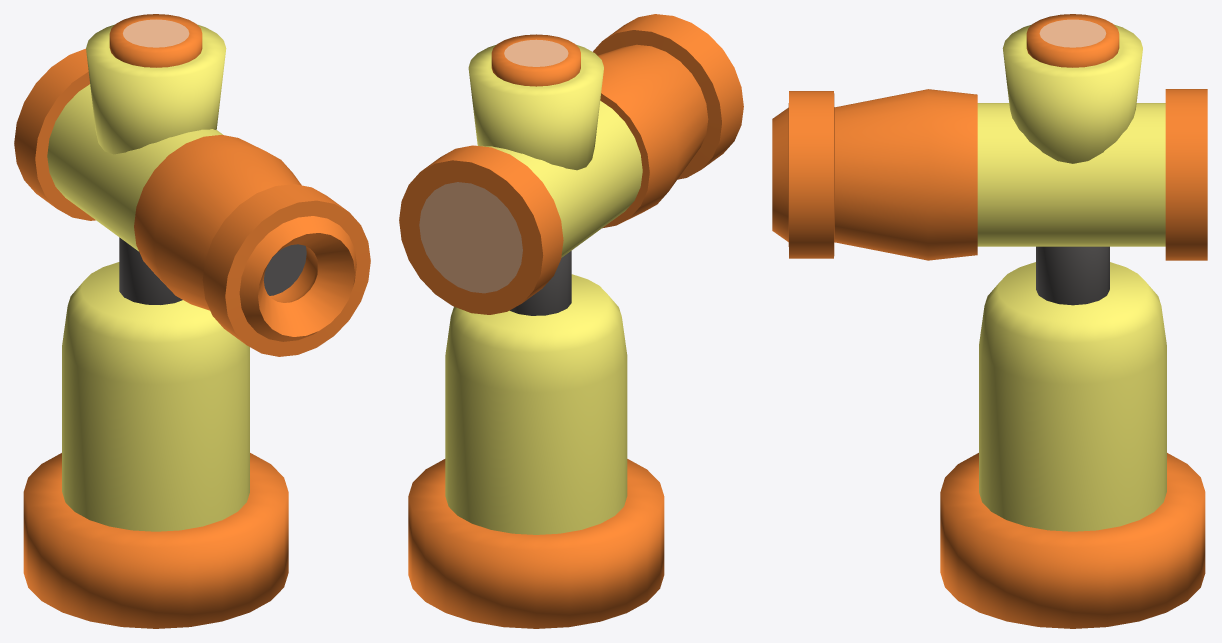
The model's file is Obstacle 28 V3.fbx.
The picture shows the model from 3 angles, left to right: view 1: azimuth 30°, elevation 25°; view 2: azimuth 150°, elevation 25°; view 3: azimuth 270°, elevation 25°; orthographic projection. The views are drawn at different scales.
Parts seen in each view (by area): view 1: 028 Part 2, 028 Part 1; view 2: 028 Part 2, 028 Part 1; view 3: 028 Part 2, 028 Part 1.
Part boxes in pixels (x1,y1,x2,y2): 028 Part 2: (23, 14, 288, 628); 028 Part 1: (14, 48, 370, 356); 028 Part 2: (408, 34, 664, 628); 028 Part 1: (399, 14, 743, 314); 028 Part 2: (940, 14, 1205, 628); 028 Part 1: (772, 89, 1207, 260).
Bounding box in the file's own units: 45.05 × 101 × 74.06.
Materials: 1 (1 with a texture image).
